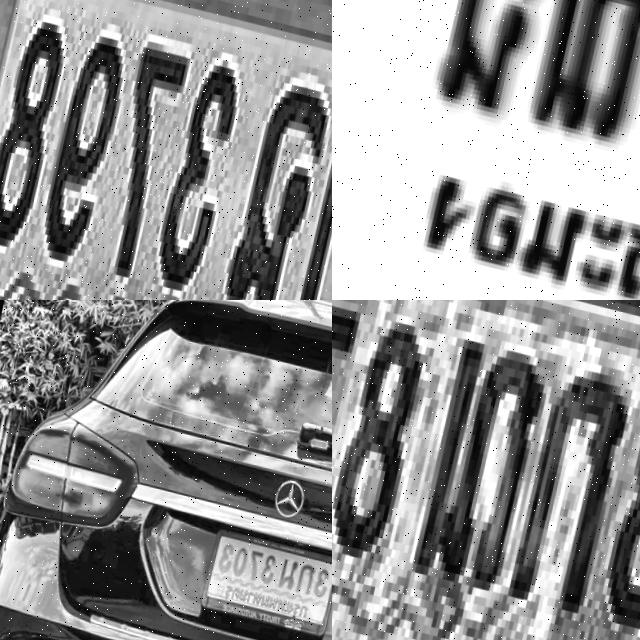license-plate: (332, 300, 640, 640), (0, 0, 332, 300), (332, 0, 640, 300), (201, 519, 332, 634)
